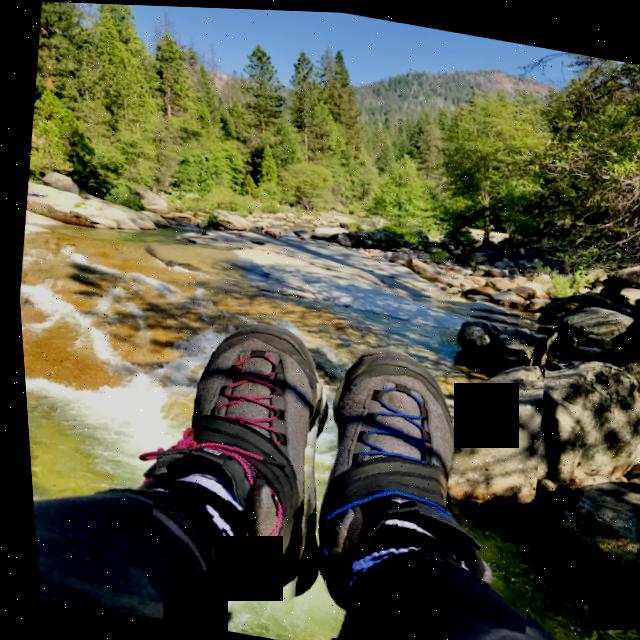shoe: (291, 276, 563, 640), (120, 267, 349, 629)
